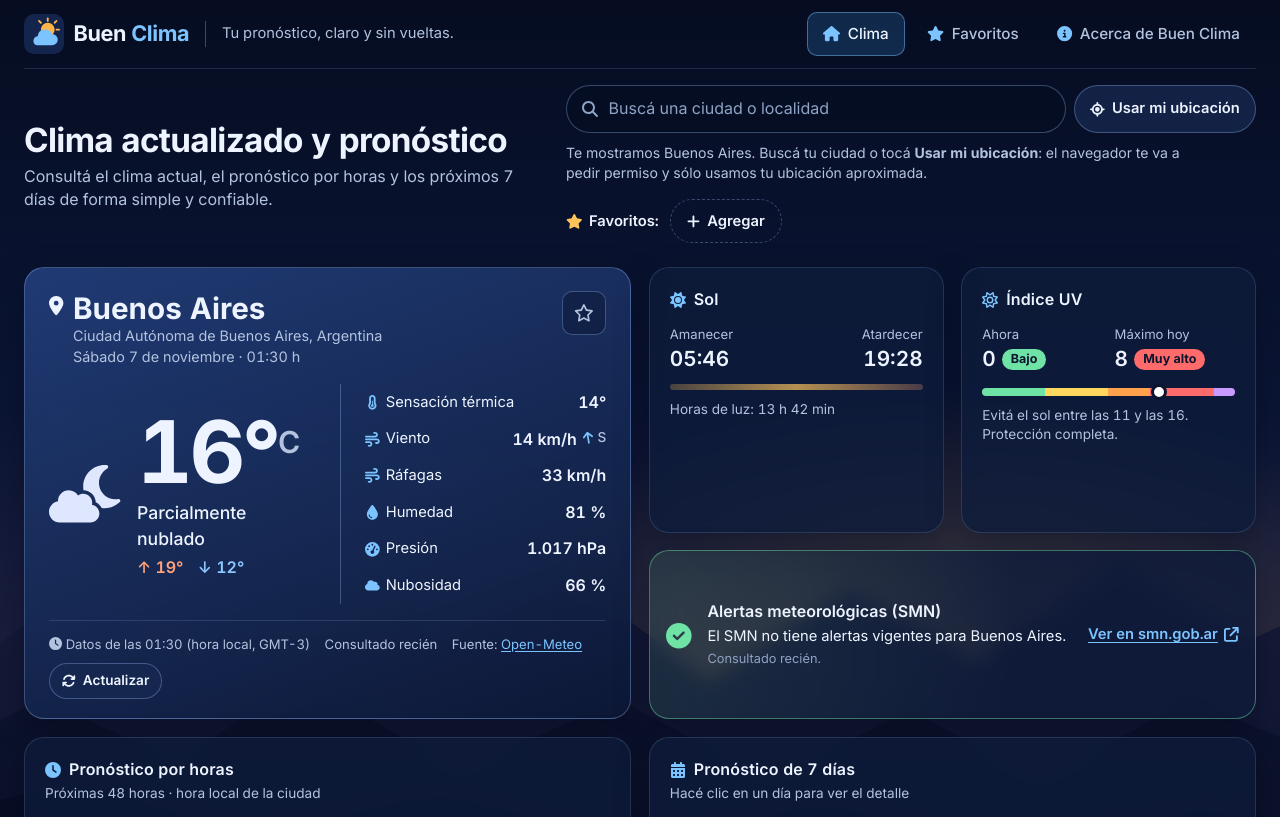
Test: App › geolocalización denegada: explica y deja buscar manualmente
expect the heading "Buenos Aires" is shown: met, box [73,290,266,326]
Step 1. Click the button "Usar mi ubicación" → click(1165, 109), box [1074,85,1256,133]
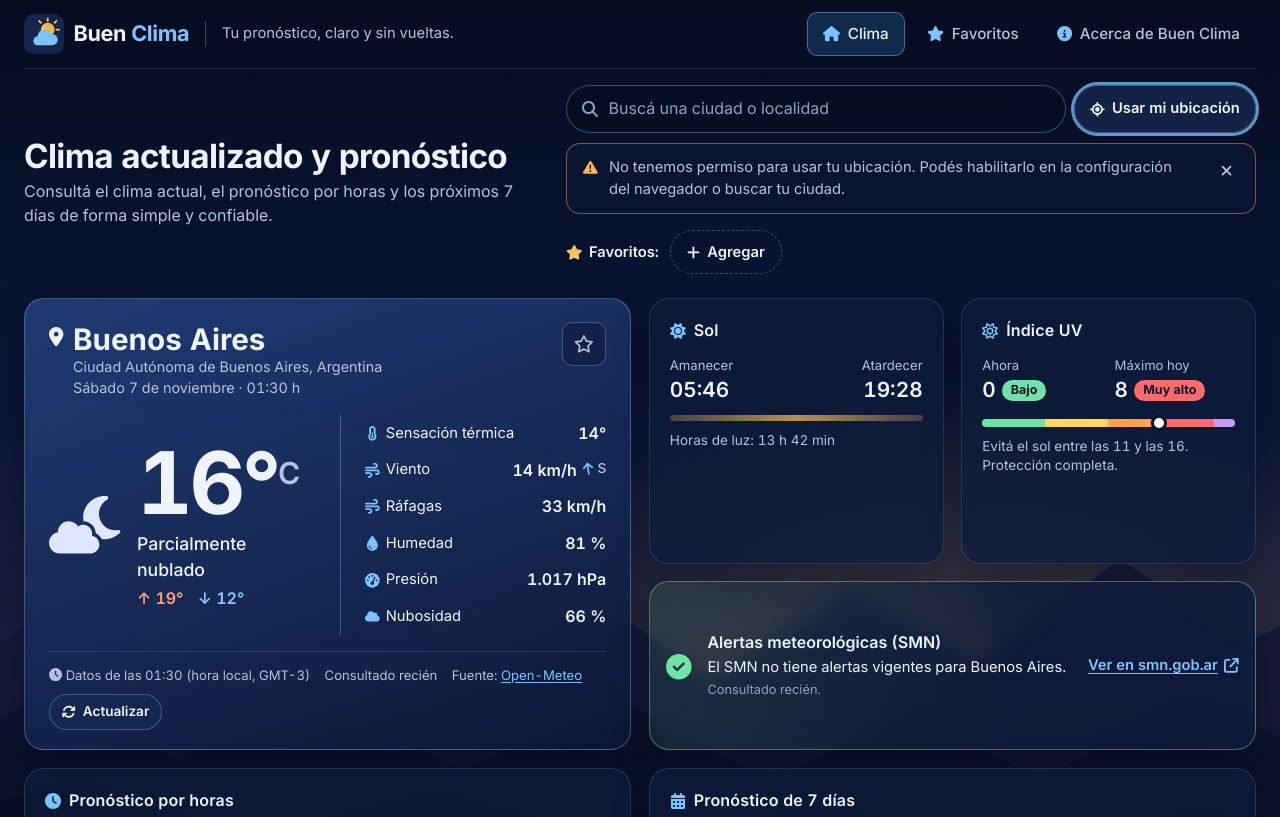
expect the dropdown is enabled: met, box [566,85,1066,133]
expect the text "No tenemos permiso para usar tu ubicación" is shown: met, box [609,158,1172,198]
